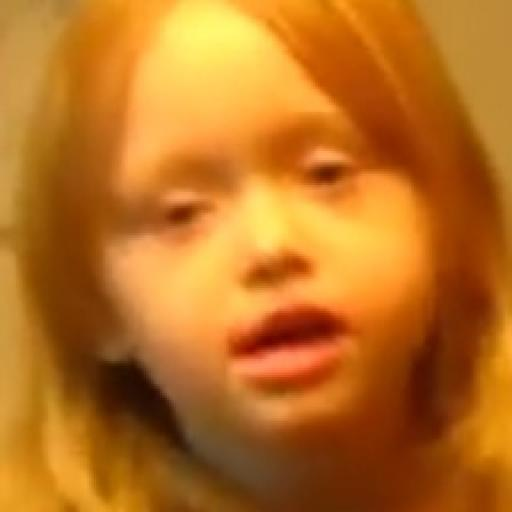Autism: (4, 0, 512, 493)
